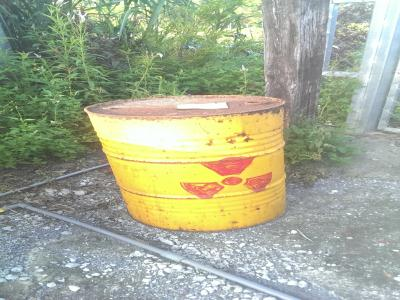bucket: (84, 93, 288, 231)
